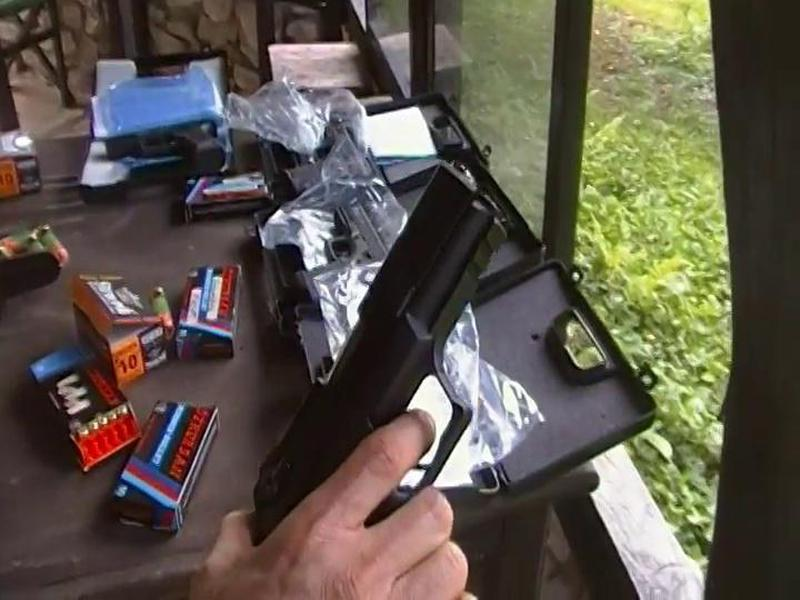Pistola: (235, 163, 534, 552)
